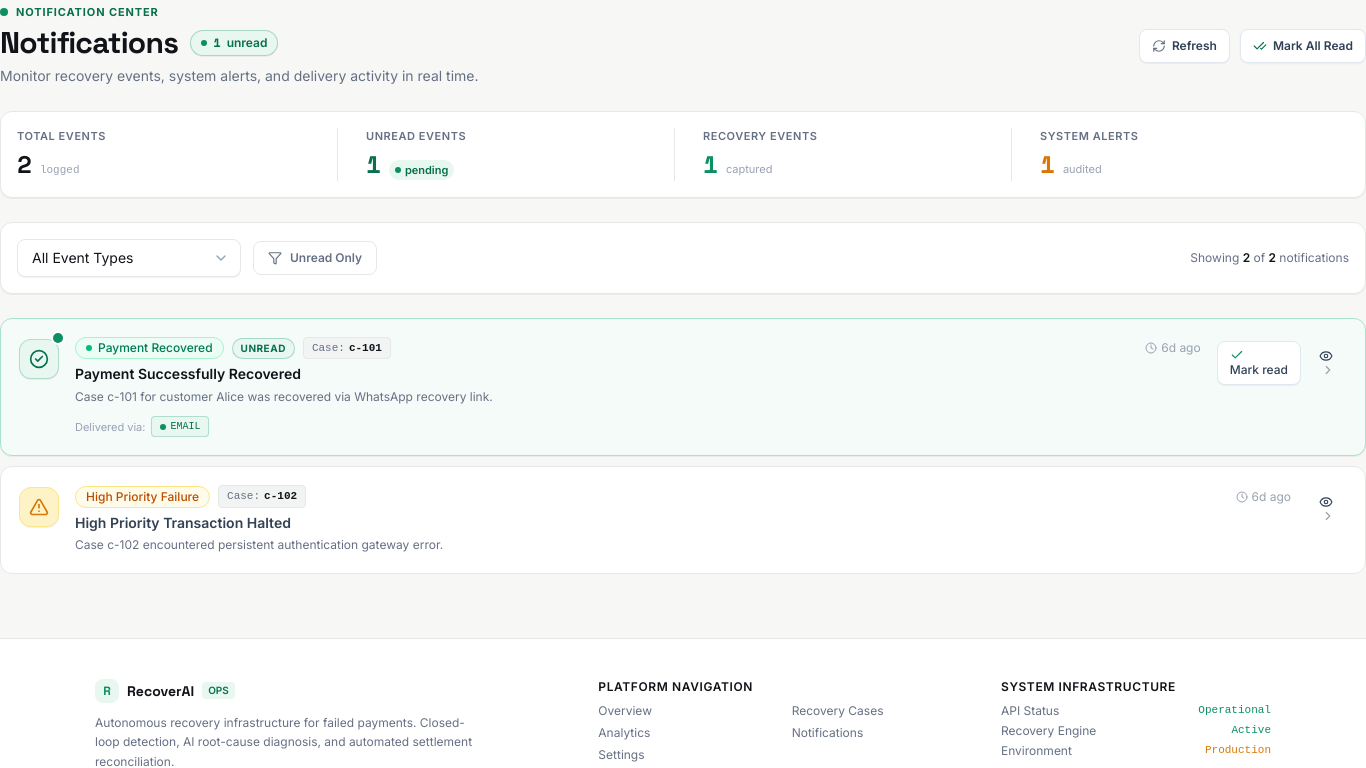
Test: NotificationsPage › opens detail modal and displays delivery channels on selection
Expected: the heading "Payment Successfully Recovered" is shown, [75,365,301,382]
Click the button named "View details for Payment Successfully Recovered". click: (1327, 363)
box: [1307,343,1347,383]
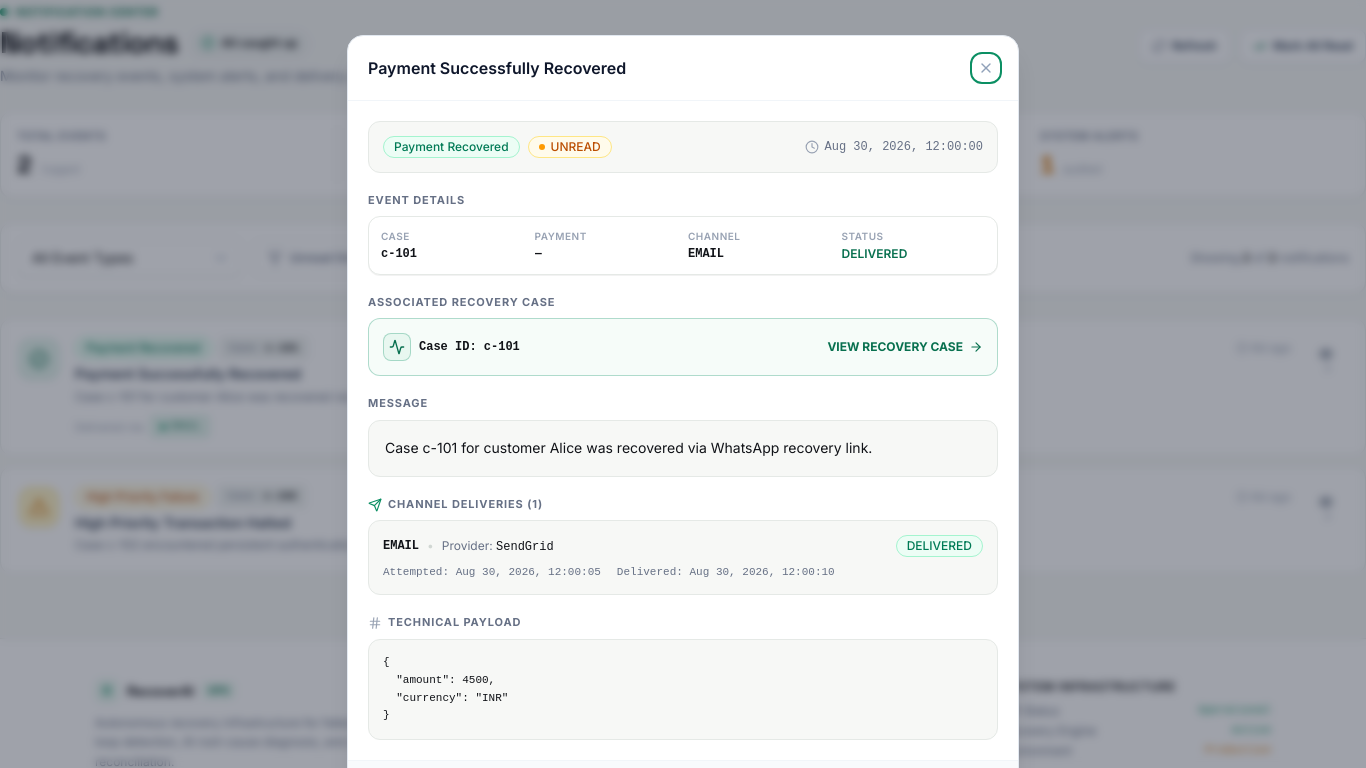
Expected: the text "Channel Deliveries (1)" is shown, [368,497,543,512]
Expected: the text "Associated Recovery Case" is shown, [368,295,555,309]
Expected: the text "Case ID: c-101" is shown, [419,339,520,355]
